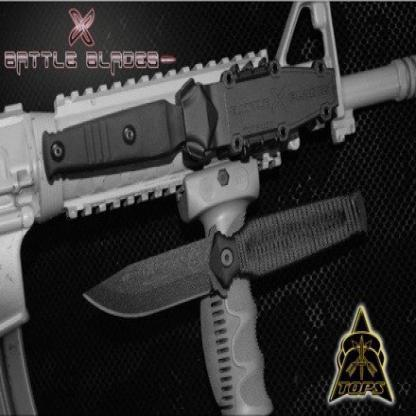Gun: (0, 1, 416, 416)
Knife: (83, 187, 369, 320)
